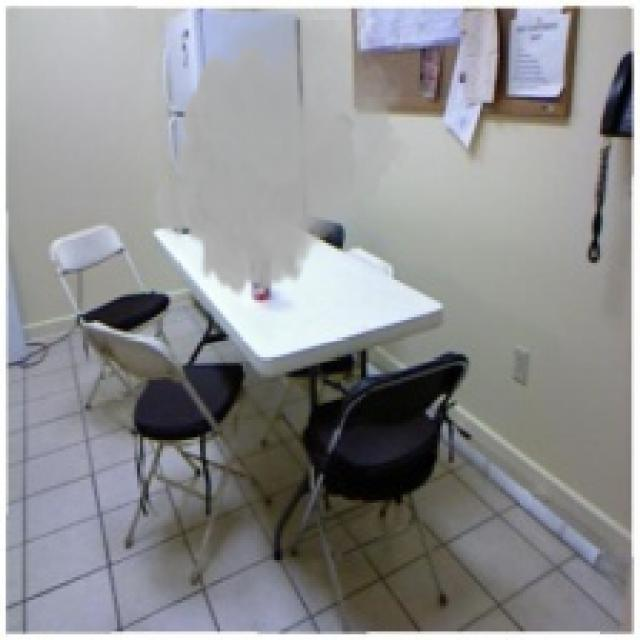Smoke: (152, 20, 412, 300)
